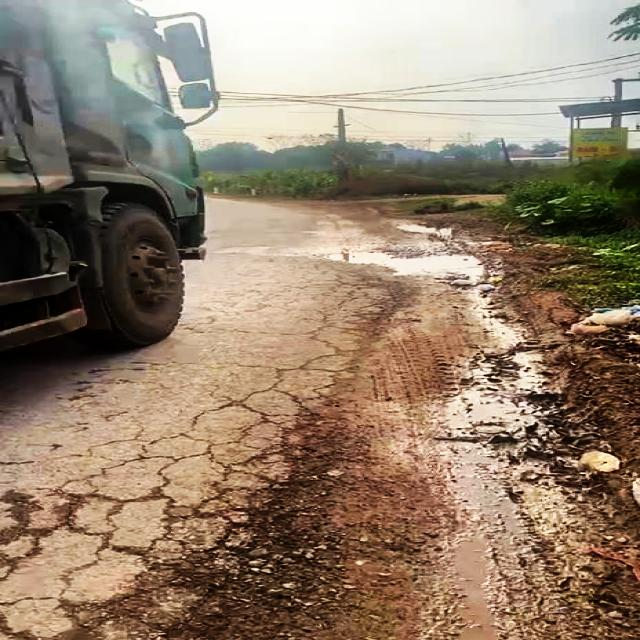pothole: (318, 244, 482, 284)
